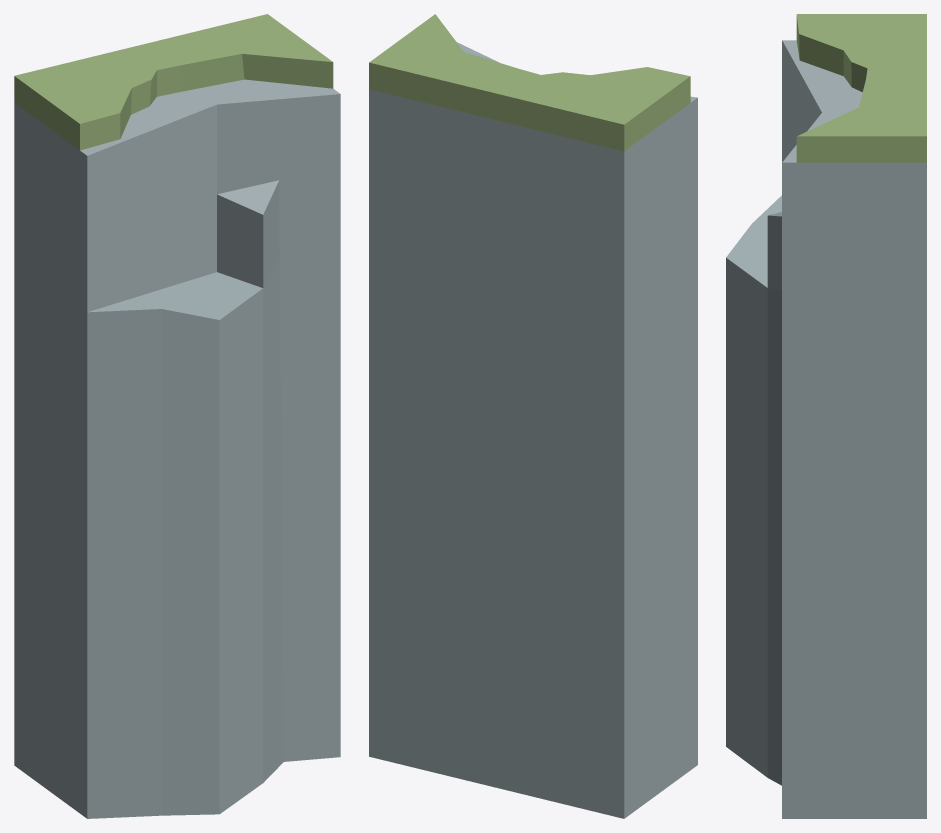
The model's file is Dual_Grid_L_L_W_W_01.fbx.
3 views of the same model, side by side, from view 1: azimuth 30°, elevation 25°; view 2: azimuth 150°, elevation 25°; view 3: azimuth 270°, elevation 25° (orthographic).
Visible parts, largest first — view 1: Tile_L_L_W_W_01; view 2: Tile_L_L_W_W_01; view 3: Tile_L_L_W_W_01.
Part boxes in pixels (x1,y1,x2,y2): Tile_L_L_W_W_01: [14, 14, 340, 818]; Tile_L_L_W_W_01: [369, 14, 697, 818]; Tile_L_L_W_W_01: [726, 14, 926, 818].
Size of the model in its own units: 100 by 69.38 by 260.
